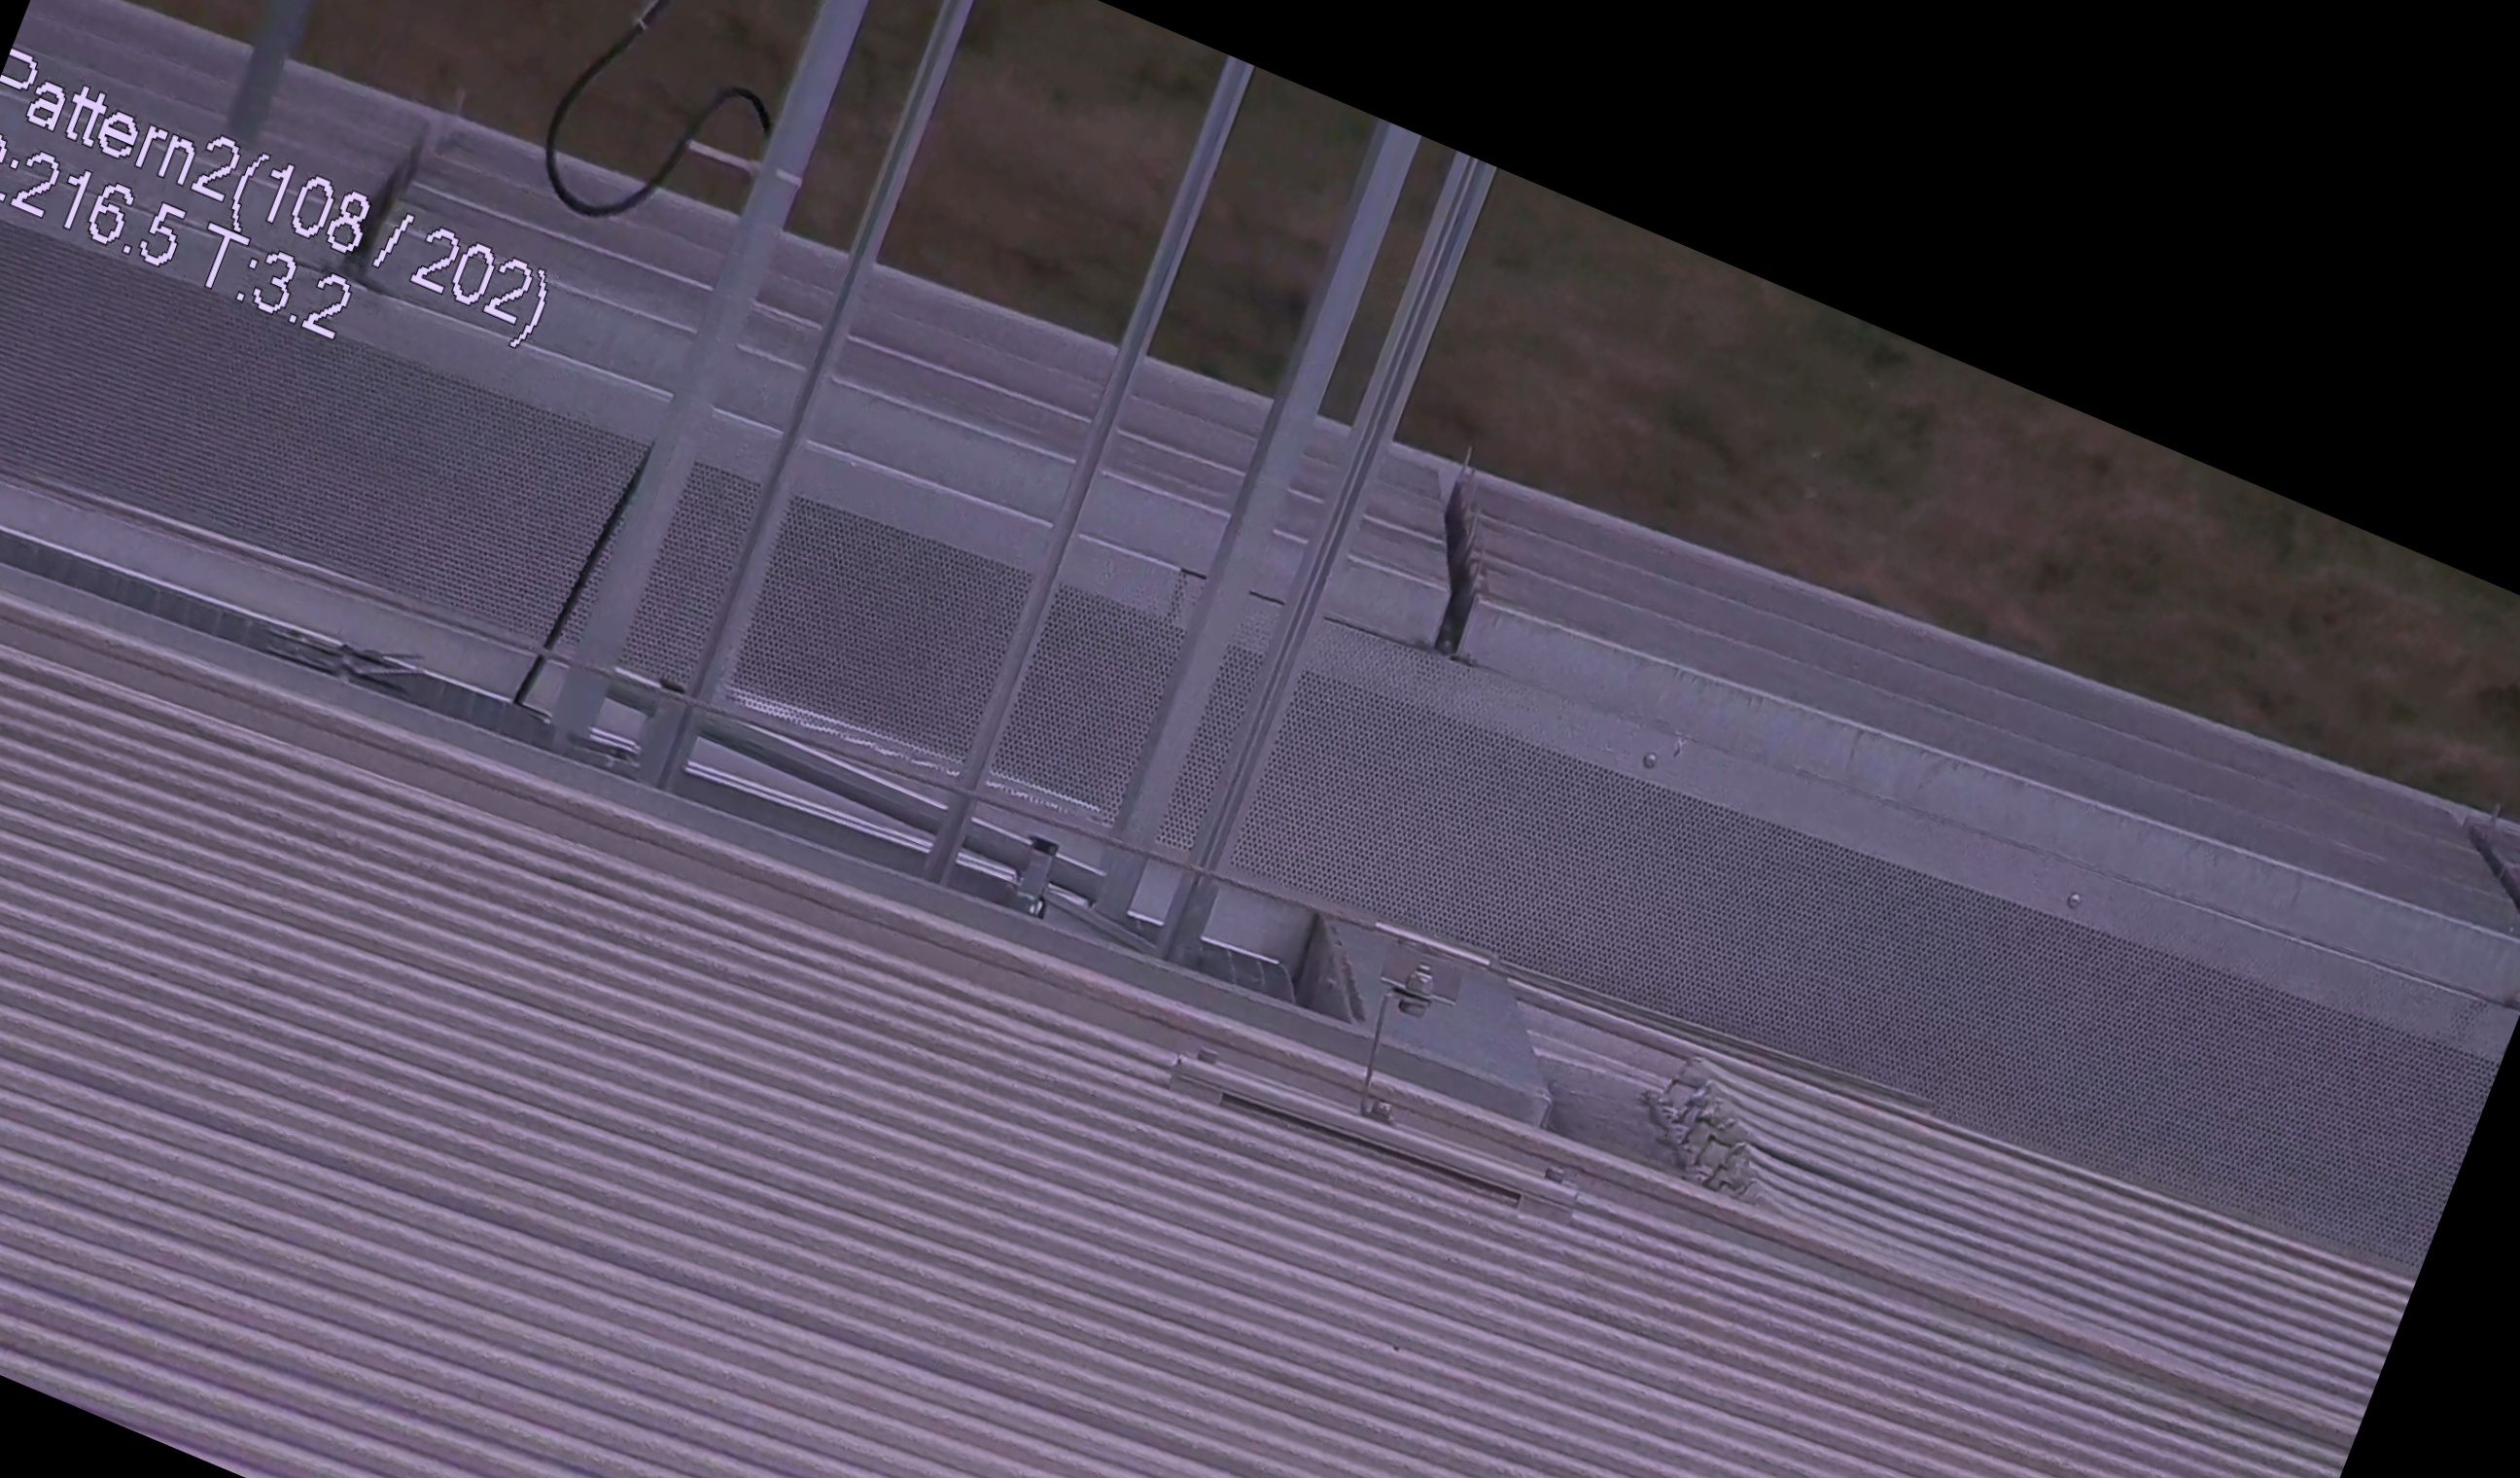Other: (1375, 431, 1555, 672)
